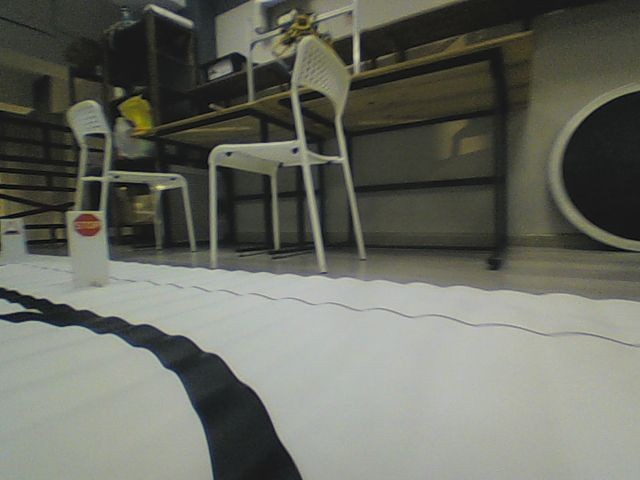Nerov: (3, 221, 20, 236)
Stop: (71, 212, 102, 239)
